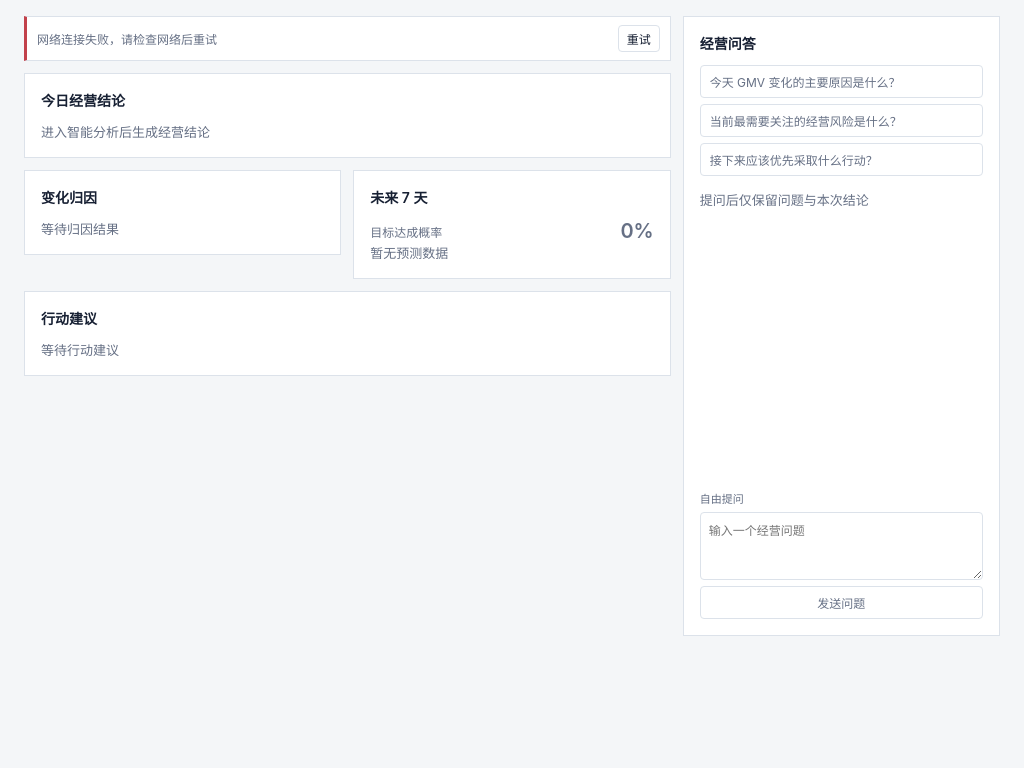
智能分析内容与问答 › 错误状态可重试且Abort不会显示错误
The width and height of the screenshot is (1024, 768).
Expected: the message shows "网络连接失败，请检查网络后重试", x1=37 y1=32 x2=217 y2=47
Click the button "重试".
click(639, 38)  # box x1=618 y1=25 x2=660 y2=52
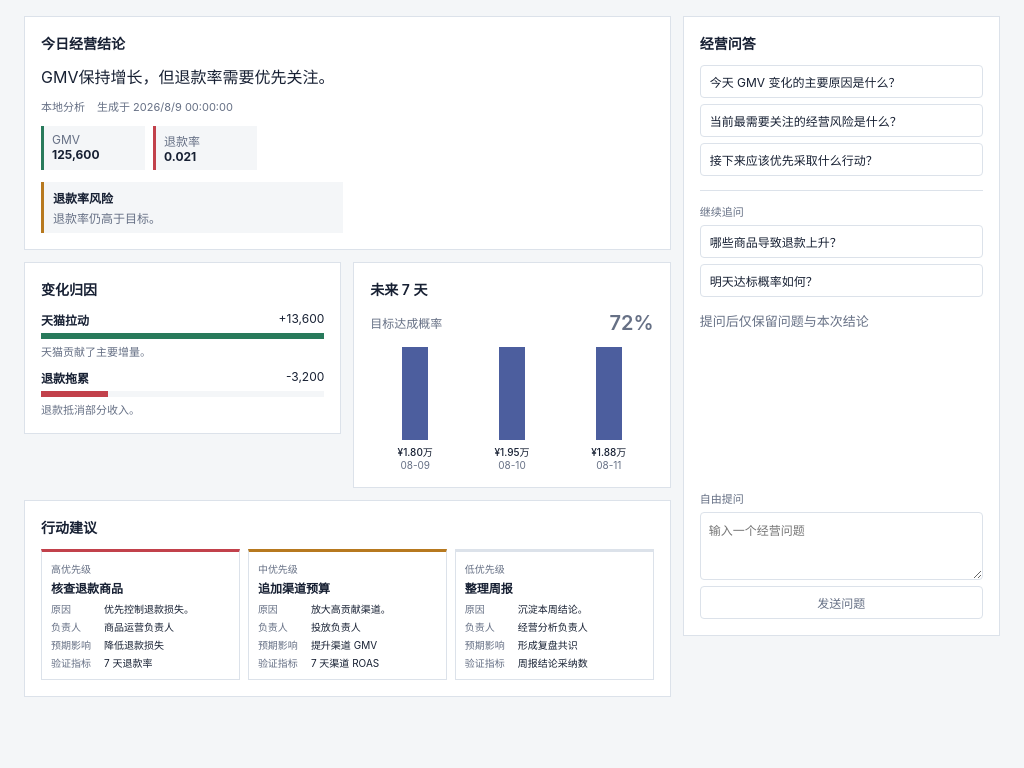
Now the text "GMV保持增长，但退款率需要优先关注。" is shown, box x1=41 y1=67 x2=334 y2=87
